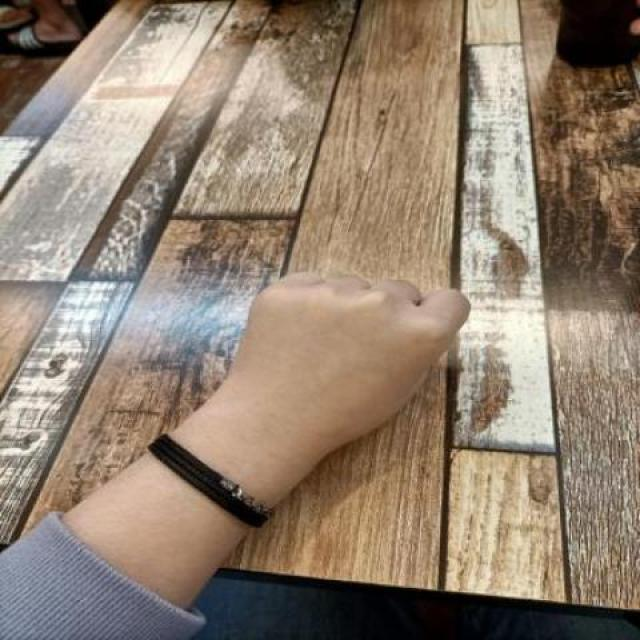fist: (219, 267, 474, 461)
